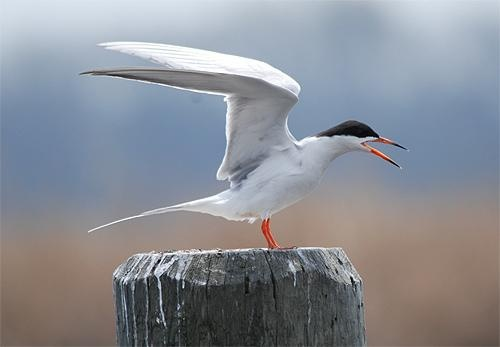bird: (76, 38, 405, 259)
